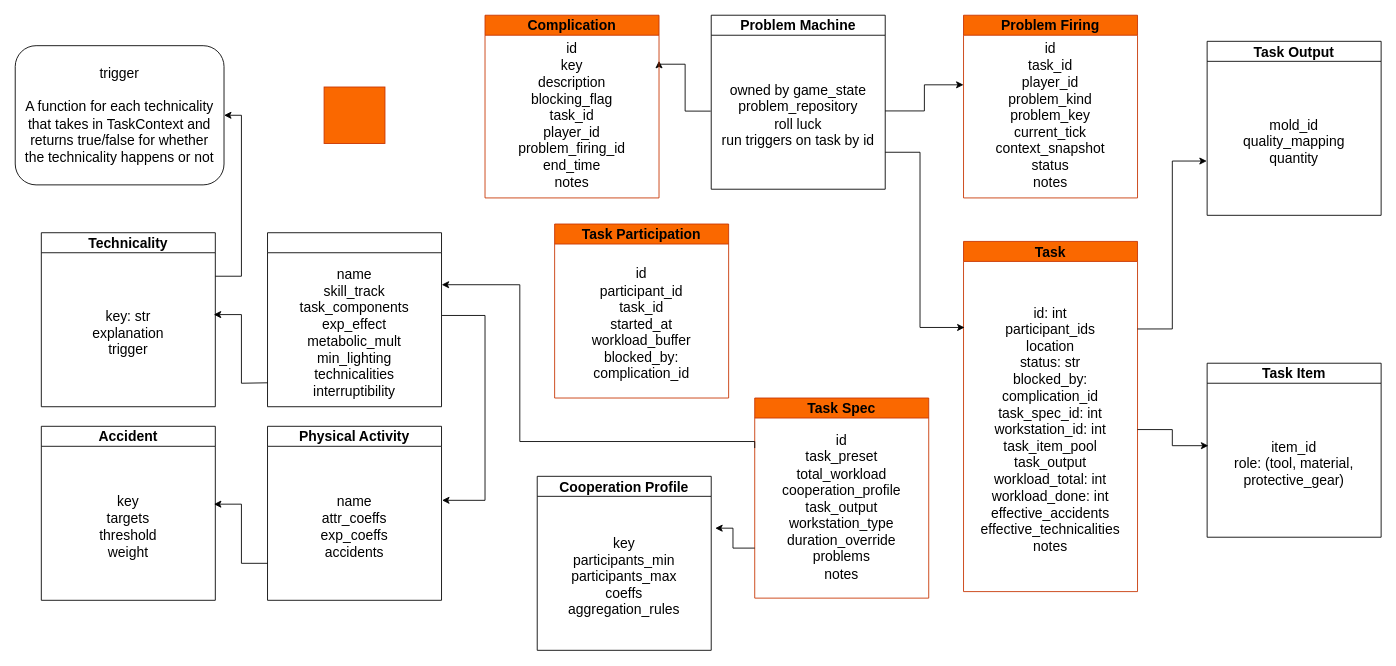
The diagram is 1396 pixels wide and 666 high, and some of its shapes have lost their labels. Here are the shapes that lost their labels. From the top down, the centre of each, then its label:
point (354, 115): Orange is DB table
point (354, 319): Task Preset
